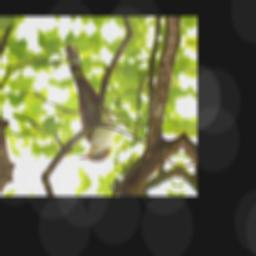Cuckoo: (49, 42, 127, 164)
